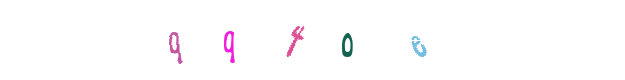4: (272, 0, 352, 80)
E: (365, 0, 445, 80)
O: (307, 0, 387, 80)
Q: (189, 0, 269, 80), (193, 0, 273, 80)
